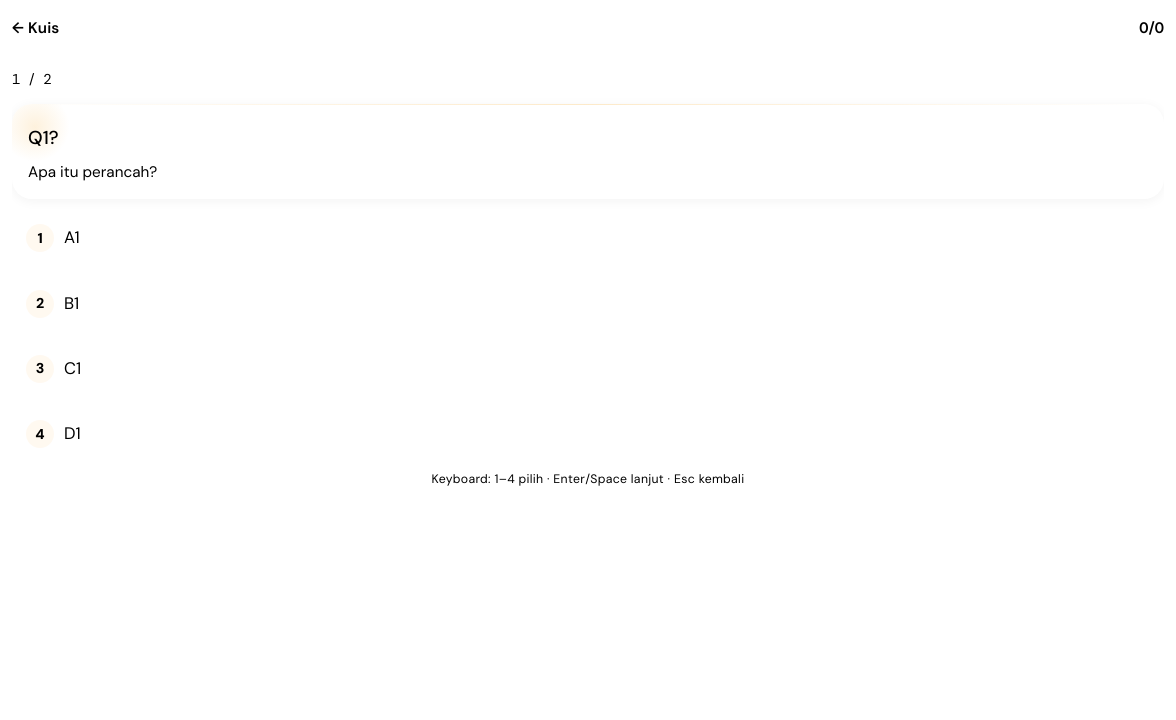
QuizShell › multi-question flow › shows Lanjut → on non-last question
This screenshot has width=1176, height=720.
Click the text "A1".
click(72, 237)  # box [64, 226, 80, 248]
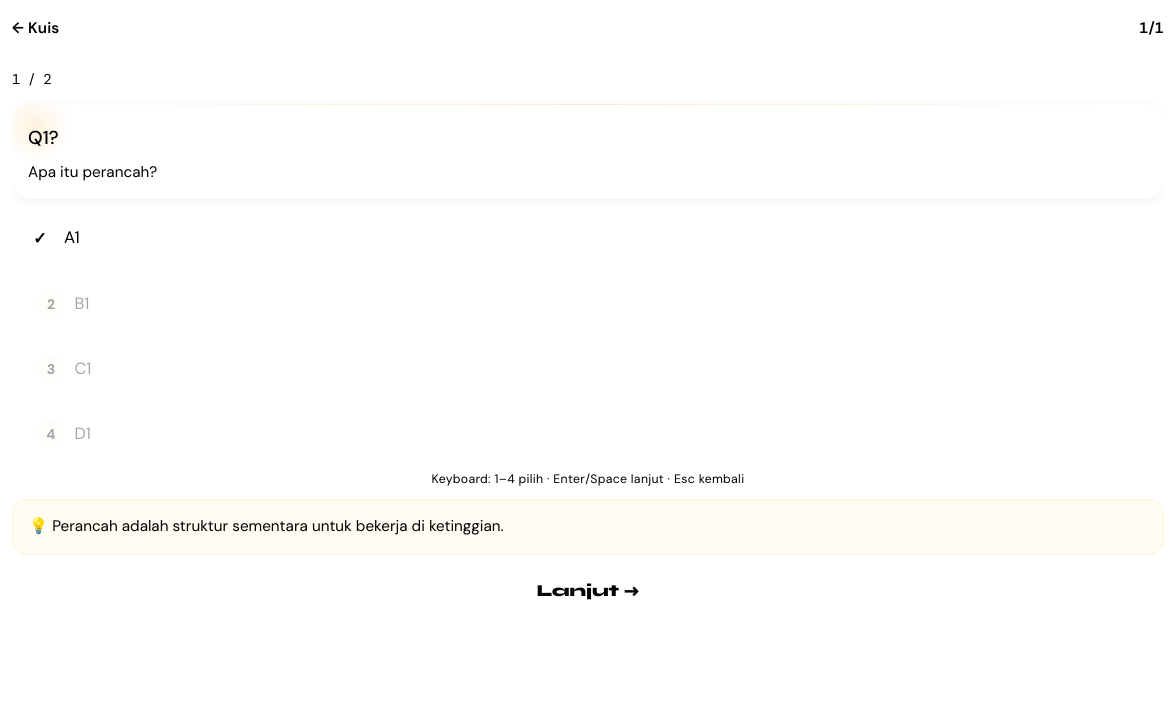
Expected: the button "Lanjut →" is shown, [12, 565, 1164, 617]
